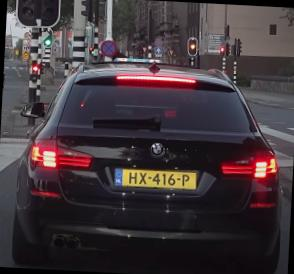license-plate: (112, 167, 198, 192)
